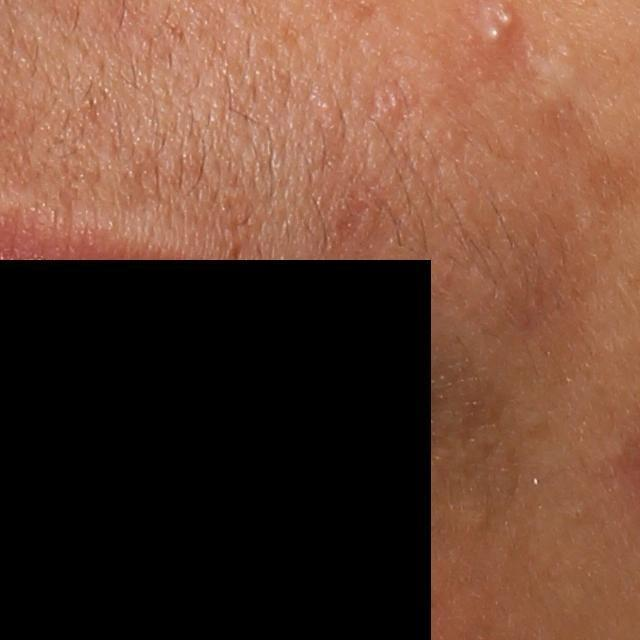comedo: (456, 502, 495, 535), (567, 506, 585, 523)
hypertrophic_scar: (521, 48, 583, 108)
